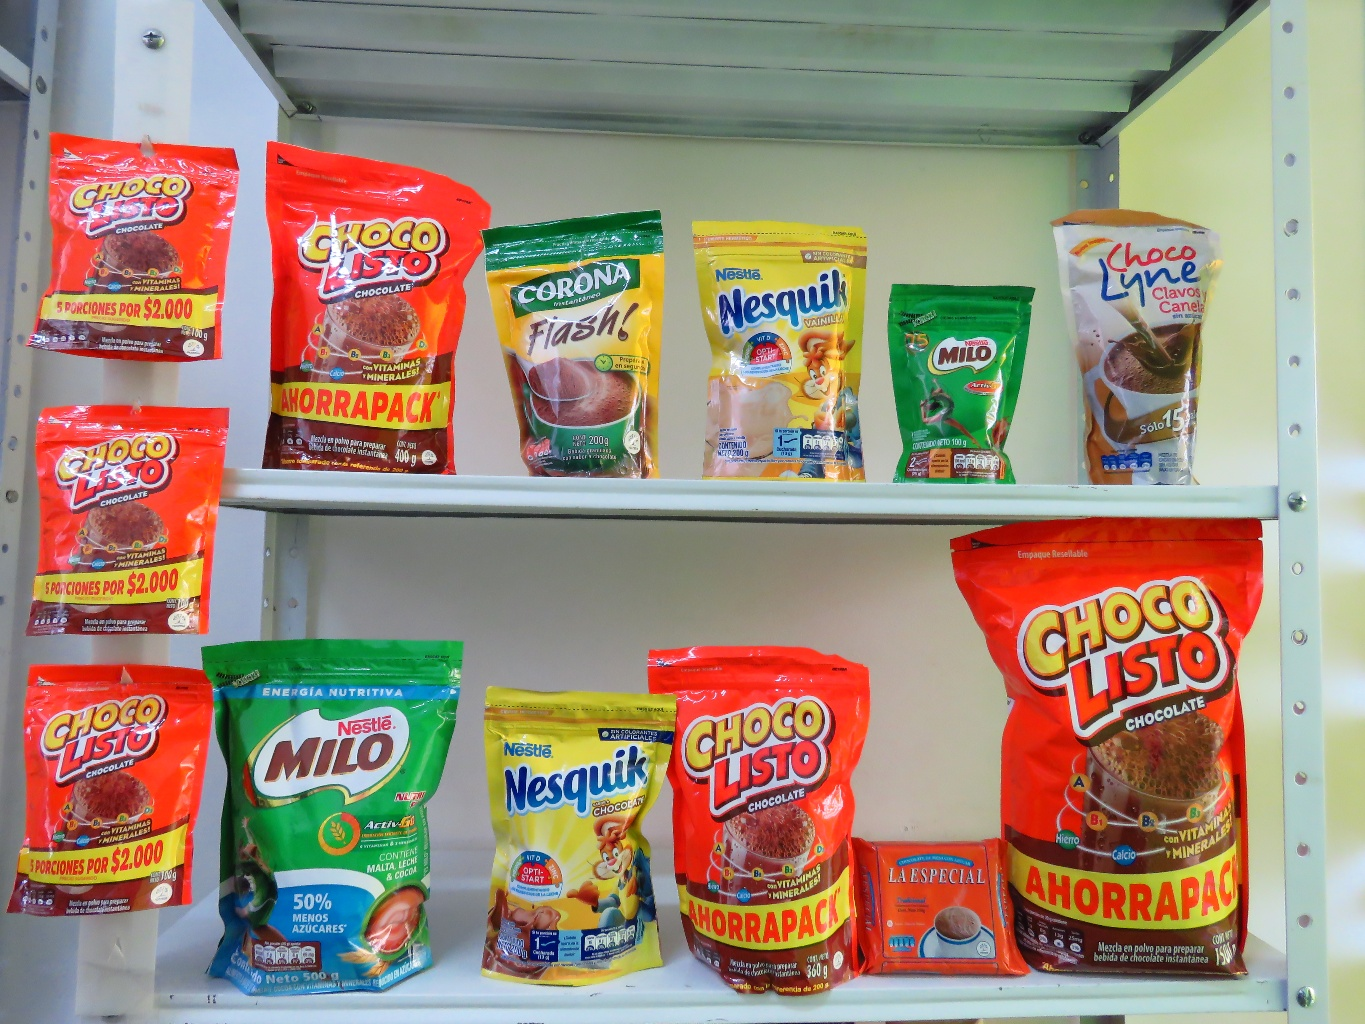COL0170103DYP1,500: (958, 512, 1275, 975)
COL0170103DYP10000: (8, 665, 202, 904)
COL0170103DYP36000: (630, 629, 865, 989)
COL0170103DYP40000: (250, 129, 468, 478)
COL0170203DYP10000: (888, 270, 1032, 484)
COL0170205DYP50000: (198, 627, 477, 994)
COL0170303DYP20000: (488, 675, 676, 981)
COL0170306DYP20000: (694, 225, 871, 481)
